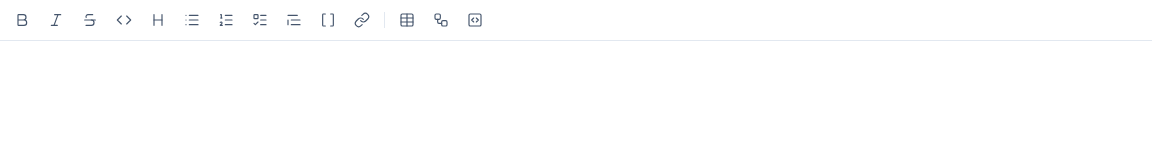
it: the format buttons › Link inserts a link with its text selected
Click the button named "Link" at (362, 20), box 346,4 -> 378,36
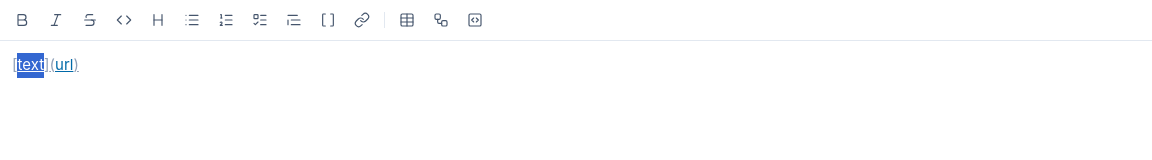
Expected: the text box labelled "[text](url)" is shown, 12,55 -> 79,74
Expected: the text box labelled "text" is shown, 18,55 -> 44,74
